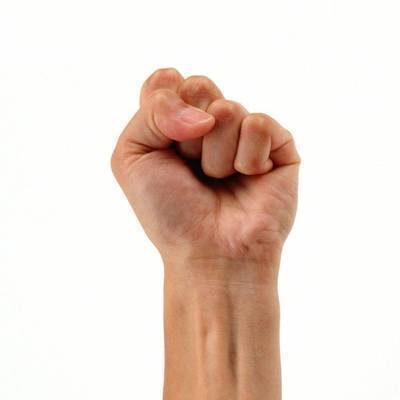closedhandfront: (90, 54, 312, 274)
